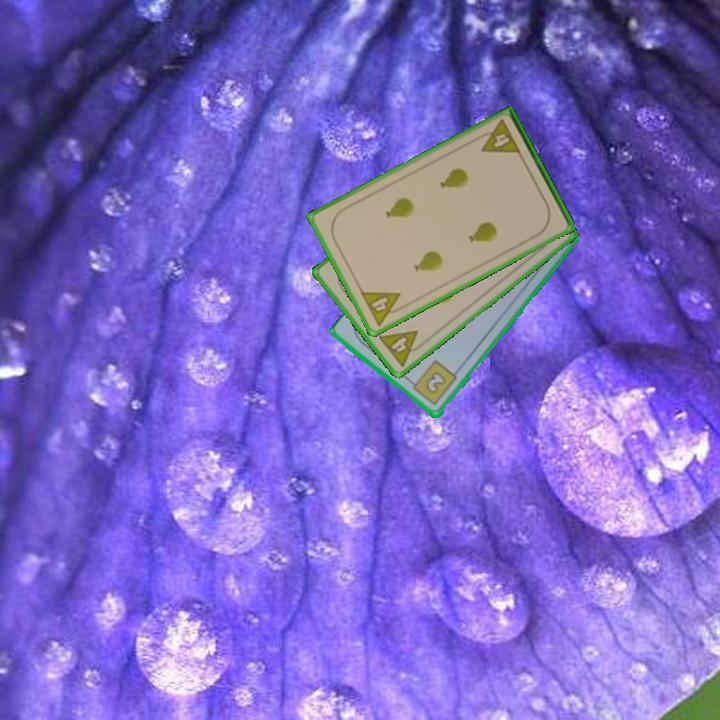2b: (405, 357, 460, 409)
4p: (375, 327, 429, 370), (357, 288, 409, 329), (473, 116, 524, 157)
